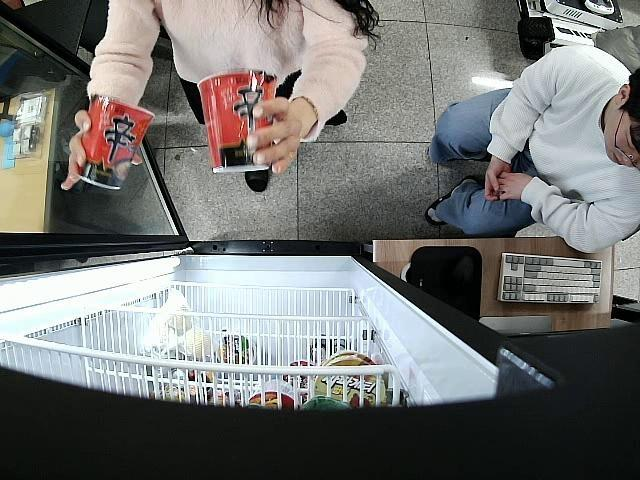02_shinRamen_S: (196, 65, 280, 172), (76, 92, 156, 193)
